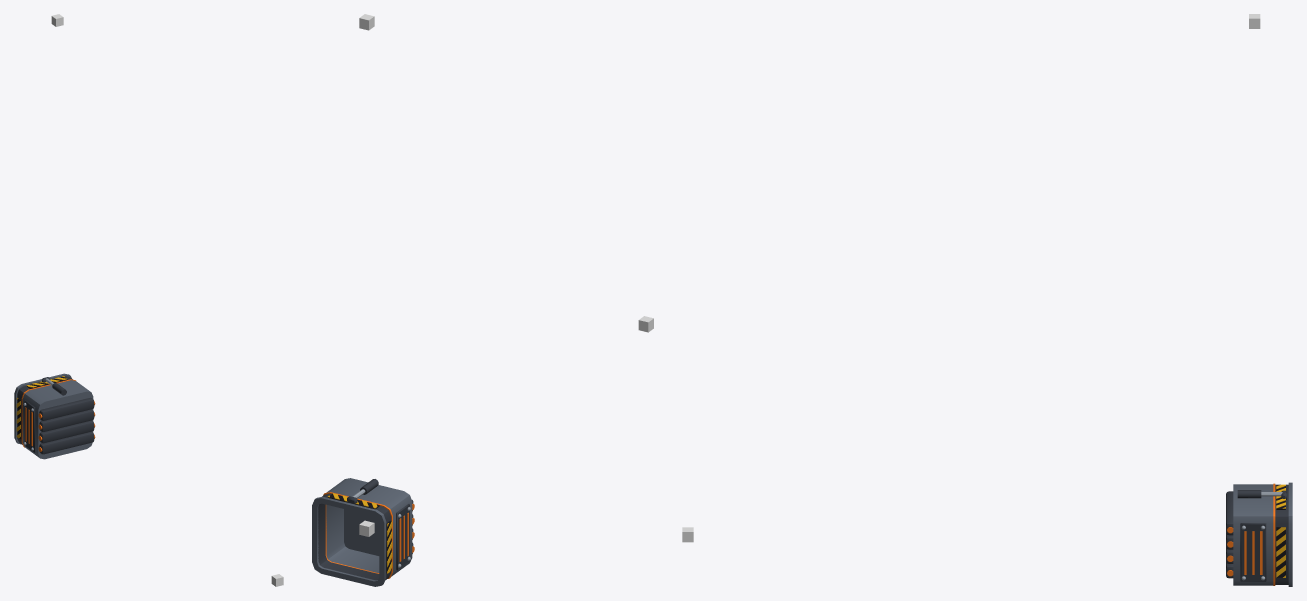
Rendered from BrannGauntlets.fbx.
3 views of the same model, side by side, from view 1: azimuth 30°, elevation 25°; view 2: azimuth 150°, elevation 25°; view 3: azimuth 270°, elevation 25° (orthographic). The views are drawn at different scales.
Parts seen in each view (by area): view 1: Body, Glow; view 2: Body, Glow; view 3: Body, Glow.
Part boxes in pixels (bbox=[...]): Body: bbox=[14, 373, 94, 459]; Glow: bbox=[21, 379, 95, 451]; Body: bbox=[312, 478, 413, 586]; Glow: bbox=[323, 492, 414, 578]; Body: bbox=[1226, 482, 1292, 586]; Glow: bbox=[1227, 483, 1275, 585].
Bounding box in the file's own units: 1.59 × 10.85 × 10.77.
Materials: 1 (1 with a texture image).
